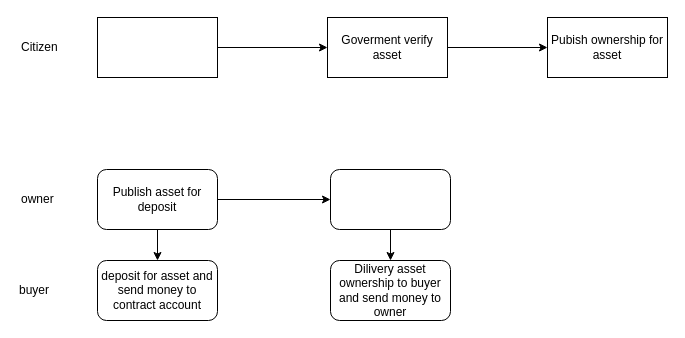
This 685x338 diagram has some shape labels left out. The shapes that lost their labels are listed below. From the top down, each one's box as (x1, y1, x2, y2) in pixels, then its label:
(96, 16, 218, 78): Proposal new asset
(330, 168, 450, 230): Publish asset for sale
